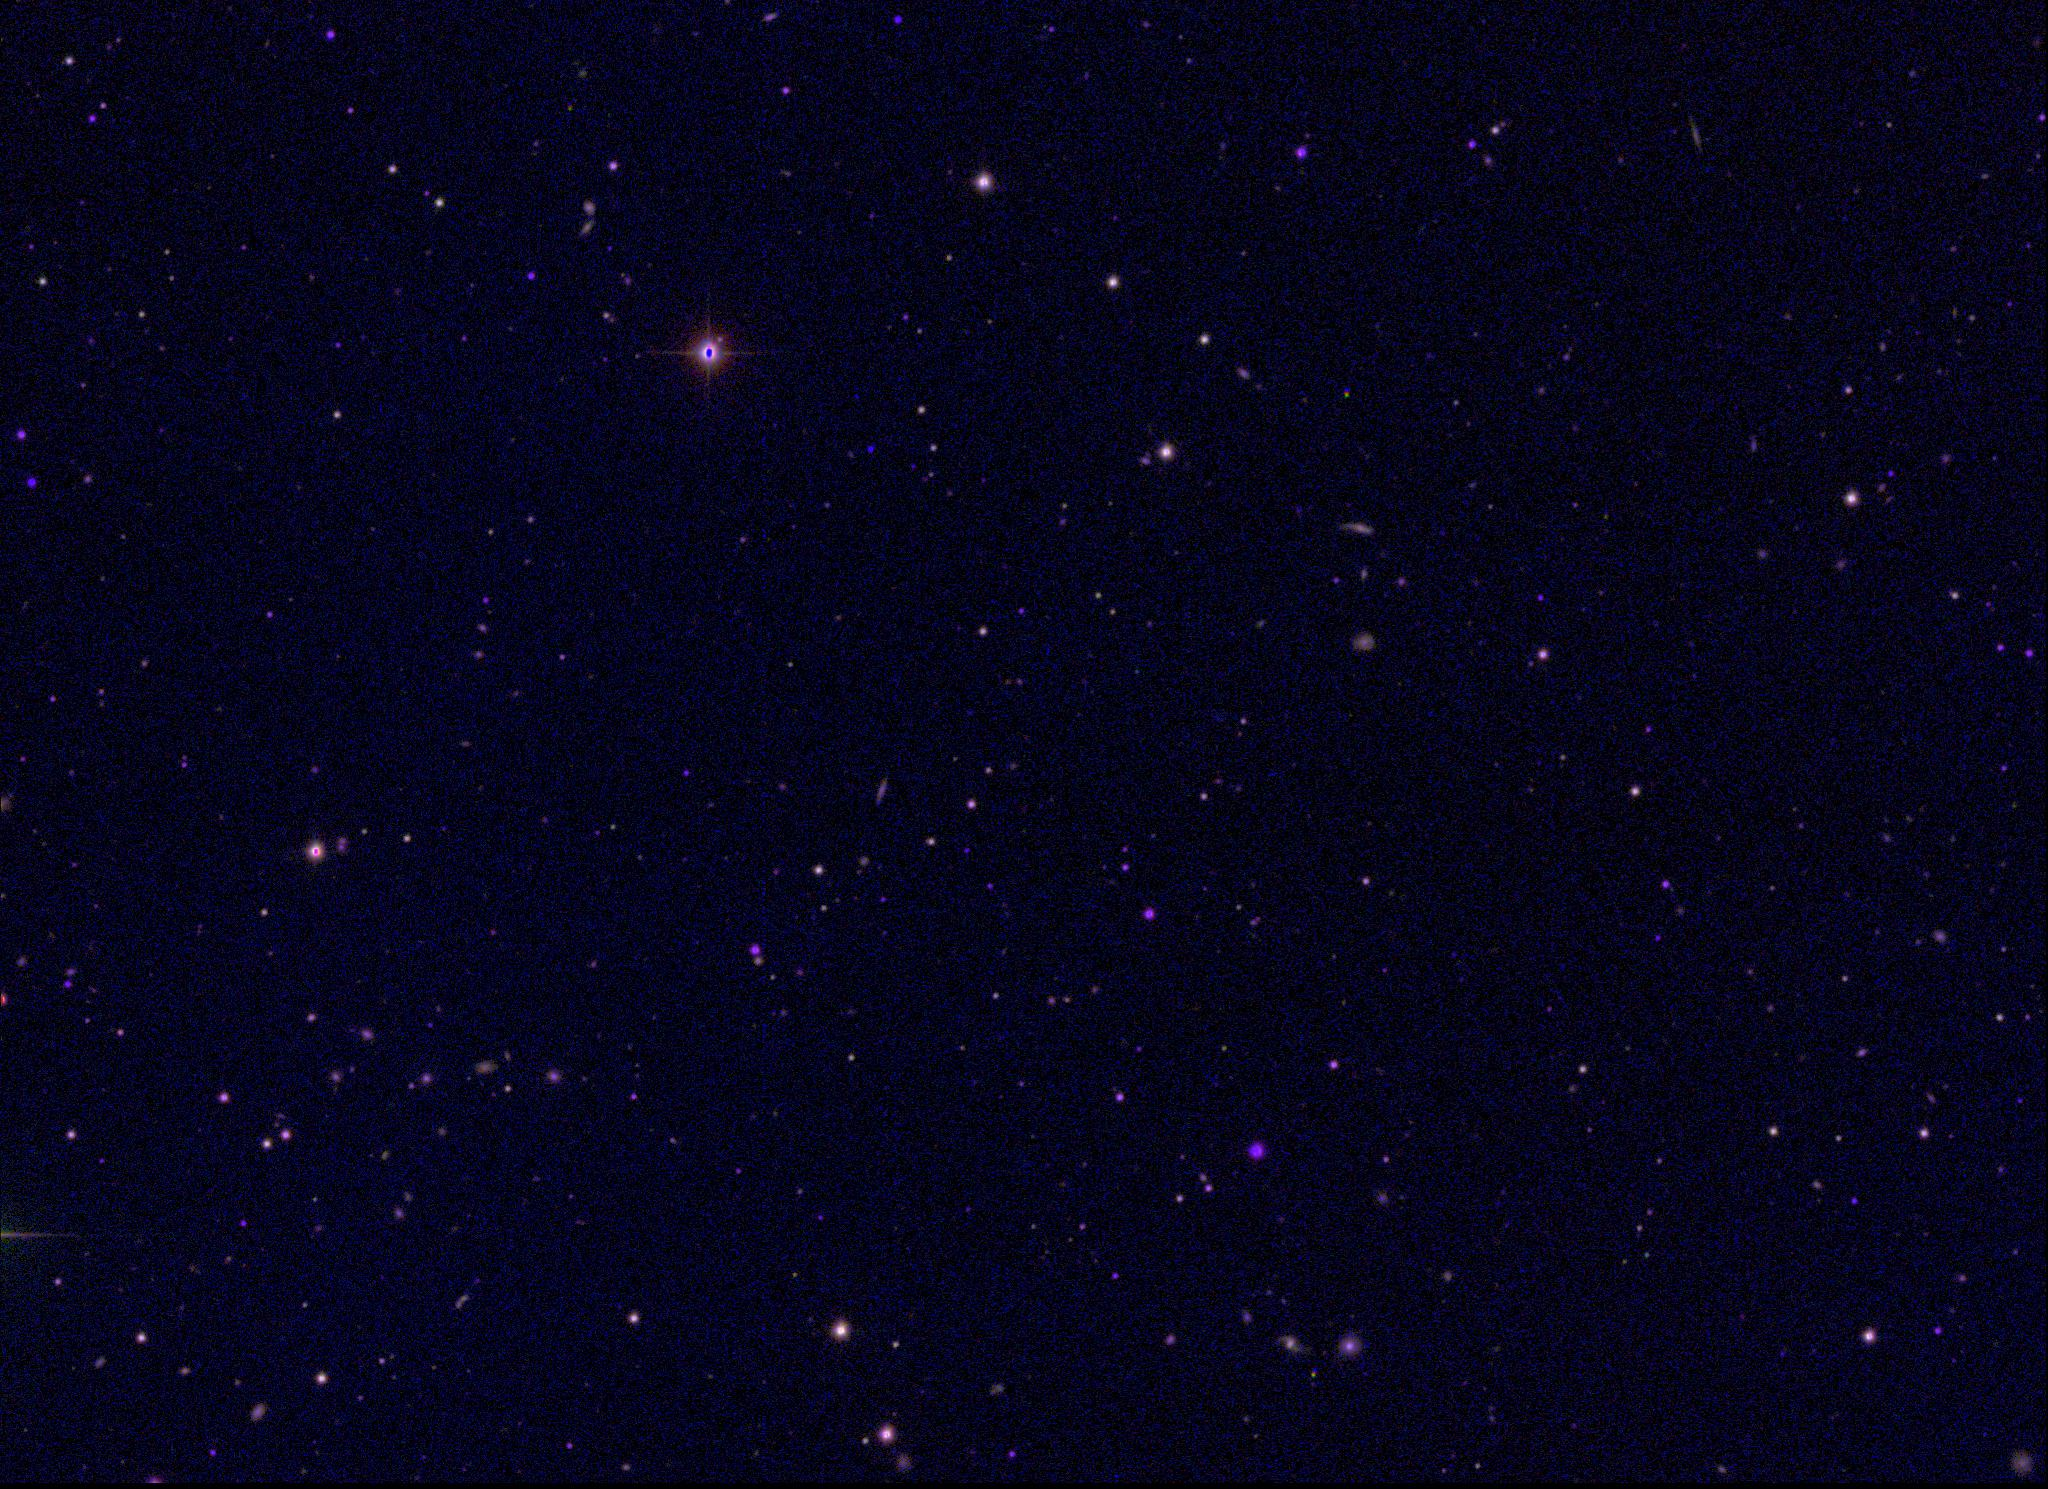L: (863, 442, 878, 457)
